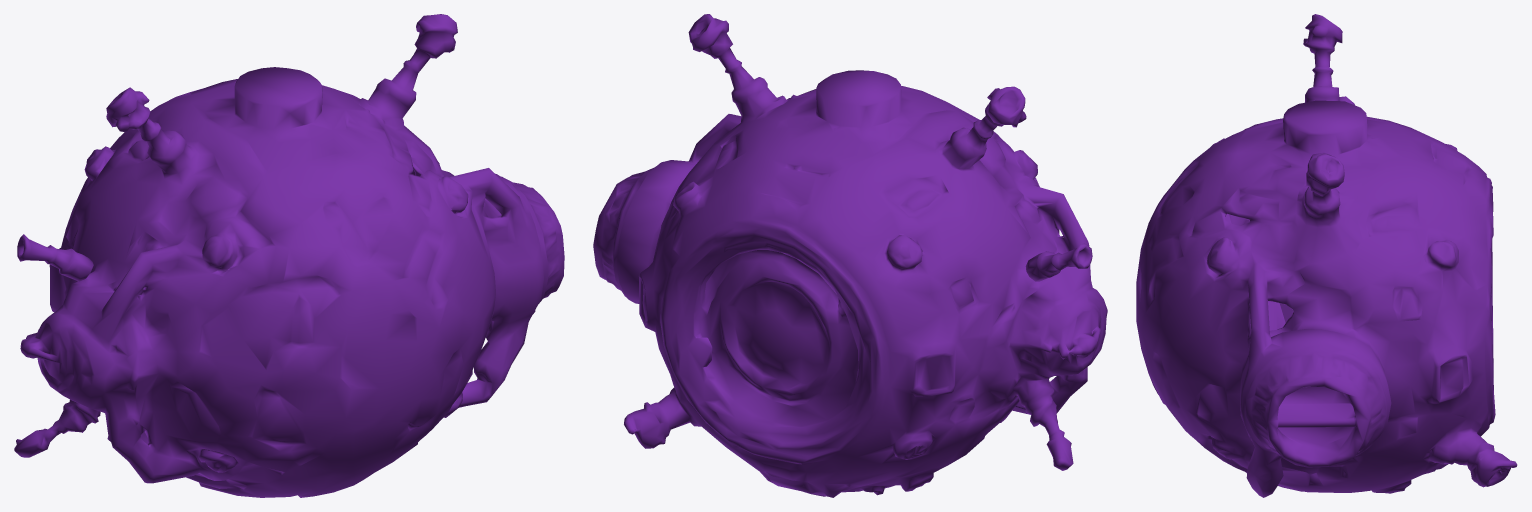
Rendered from avatar_observer.glb.
3 views of the same model, side by side, from view 1: azimuth 30°, elevation 25°; view 2: azimuth 150°, elevation 25°; view 3: azimuth 270°, elevation 25° (orthographic). The views are drawn at different scales.
Parts seen in each view (by area): view 1: avatar-observer; view 2: avatar-observer; view 3: avatar-observer.
Boxes of the visible parts, x1,y1,x2,y2 form: avatar-observer: (14, 14, 564, 497); avatar-observer: (593, 14, 1107, 497); avatar-observer: (1136, 14, 1517, 497).
Size of the model in its own units: 2 by 1.66 by 1.44.
